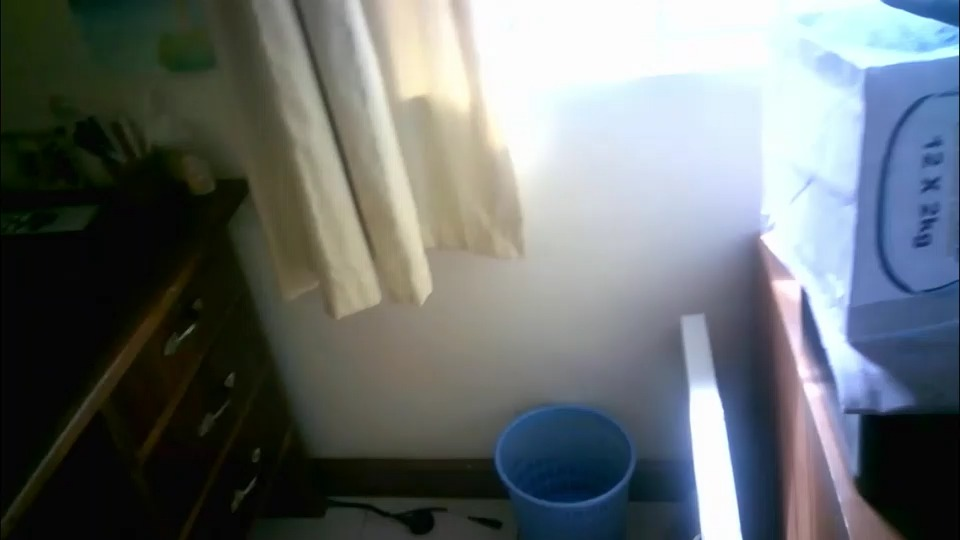wheat_flour_blue_label: (762, 4, 960, 340)
